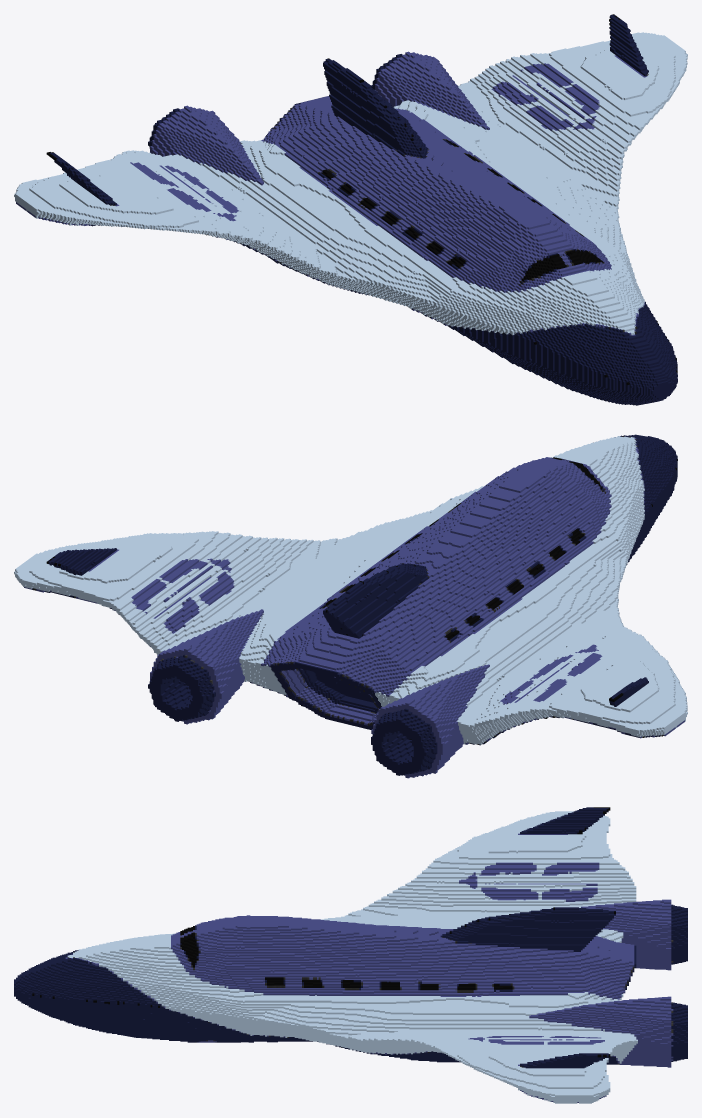
Rendered from Nave_voxel.fbx.
The picture shows the model from 3 angles, top to bottom: view 1: azimuth 30°, elevation 25°; view 2: azimuth 150°, elevation 25°; view 3: azimuth 270°, elevation 25°; orthographic projection. The views are drawn at different scales.
Parts seen in each view (by area): view 1: sd_exported_6, sd_exported_4, sd_exported_1, sd_exported_0, sd_exported_2, sd_exported_5, sd_exported_3; view 2: sd_exported_1, sd_exported_4, sd_exported_2, sd_exported_0, sd_exported_6, sd_exported_3, sd_exported_5; view 3: sd_exported_4, sd_exported_6, sd_exported_1, sd_exported_0, sd_exported_2, sd_exported_3, sd_exported_5.
Boxes of the visible parts, x1,y1,x2,y2 form: sd_exported_6: (444,220,677,405); sd_exported_4: (303,137,629,337); sd_exported_1: (190,54,517,210); sd_exported_0: (396,14,687,157); sd_exported_2: (14,105,302,231); sd_exported_5: (162,210,403,300); sd_exported_3: (521,105,662,239); sd_exported_1: (178,563,519,775); sd_exported_4: (305,465,629,638); sd_exported_2: (396,639,687,778); sd_exported_0: (14,533,302,724); sd_exported_6: (455,434,677,564); sd_exported_3: (166,519,401,586); sd_exported_5: (521,572,662,656); sd_exported_4: (239,915,464,1042); sd_exported_6: (14,916,239,1042); sd_exported_1: (464,904,687,1015); sd_exported_0: (464,997,687,1103); sd_exported_2: (464,807,687,919); sd_exported_3: (283,1016,464,1063); sd_exported_5: (320,844,464,922).
Bounding box in the file's own units: 36.4 × 7.5 × 36.5.
7 materials, 7 textured.
